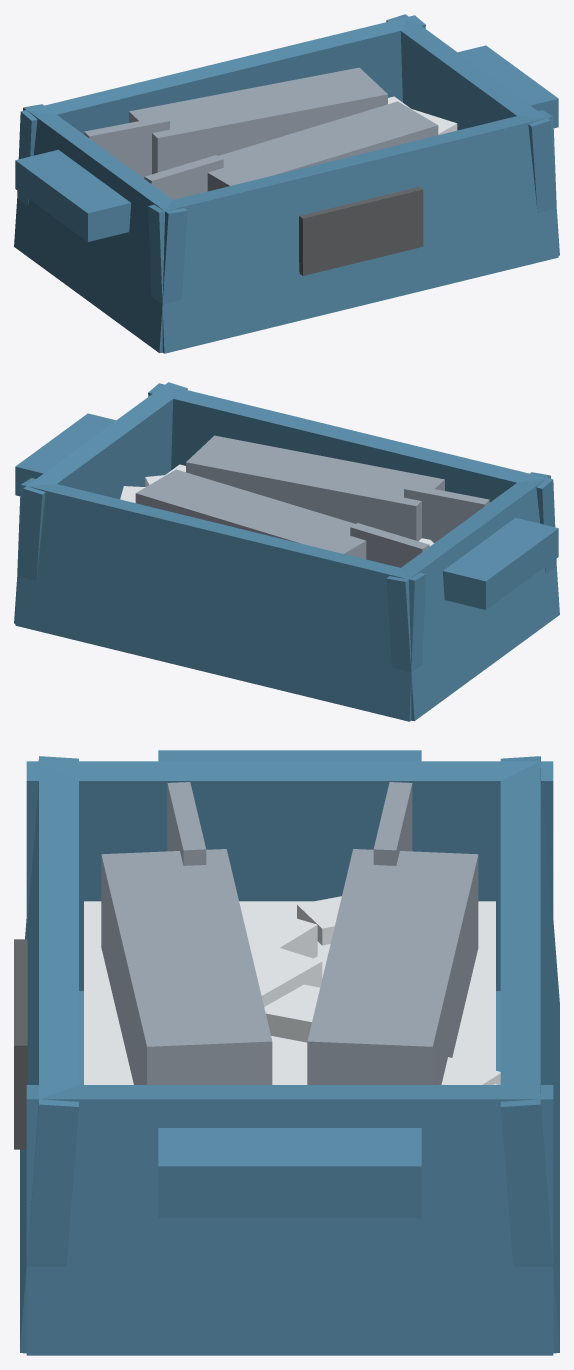
The model's file is fish-market-and-trawler-quay-fish-market-and-trawler-q-a8c73272.glb.
3 renders of one model, top to bottom at view 1: azimuth 30°, elevation 25°; view 2: azimuth 150°, elevation 25°; view 3: azimuth 270°, elevation 25°, orthographic. The views are drawn at different scales.
Parts seen in each view (by area): view 1: fish-market-and-trawler-quay-fish-box-blue; view 2: fish-market-and-trawler-quay-fish-box-blue; view 3: fish-market-and-trawler-quay-fish-box-blue.
Part boxes in pixels (x1,y1,x2,y2): fish-market-and-trawler-quay-fish-box-blue: [14, 14, 559, 353]; fish-market-and-trawler-quay-fish-box-blue: [14, 382, 559, 721]; fish-market-and-trawler-quay-fish-box-blue: [14, 750, 559, 1355].
Bounding box in the file's own units: 0.86 × 0.2419 × 0.4769.
